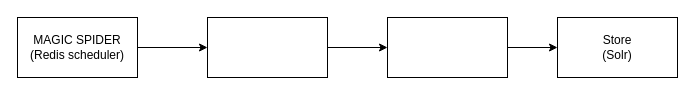
Some shapes in this 695 by 95 pixel diagram are drawn without their labels. Here are the shapes that lost their labels. From the top down, the centre of each, then its label:
At point 267,47: "Pre text processing (Remove stop words, normalize)".
At point 447,47: "Extract info (May be apply ML)".
